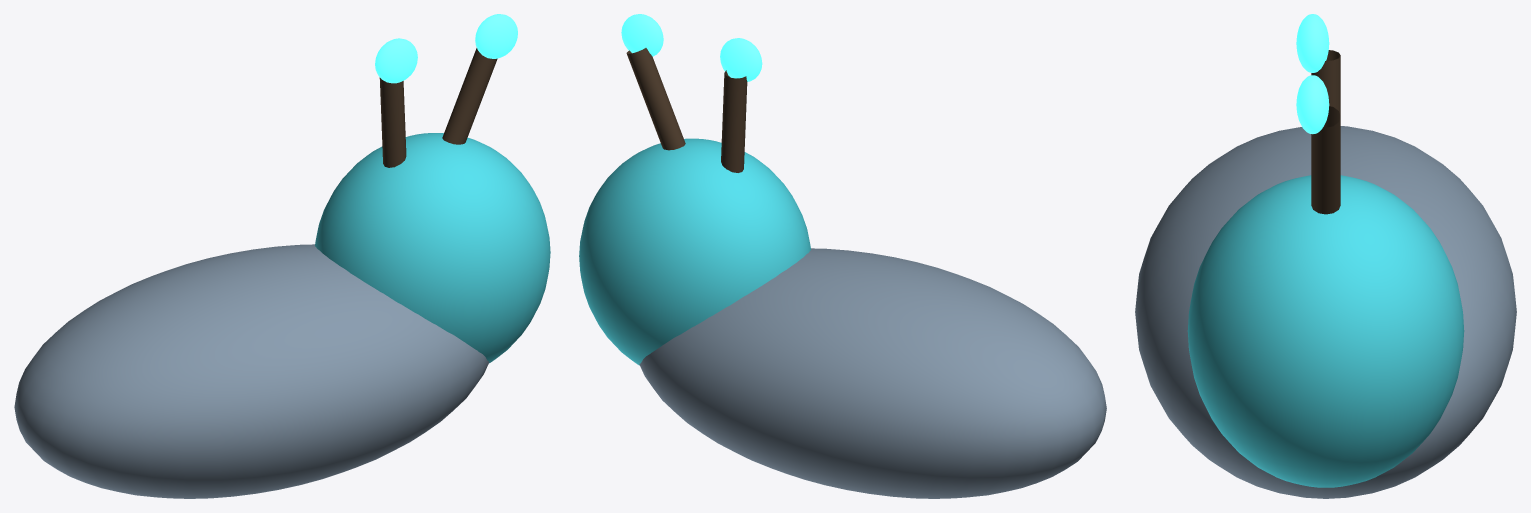
Rendered from ooze_v5.glb.
The picture shows the model from 3 angles, left to right: view 1: azimuth 30°, elevation 25°; view 2: azimuth 150°, elevation 25°; view 3: azimuth 270°, elevation 25°; orthographic projection. The views are drawn at different scales.
Parts seen in each view (by area): view 1: SLUG_SLIME_PRIMARY, SLUG_HEAD_ACCENT, SLUG_STALK_SECONDARY.001, SLUG_STALK_SECONDARY, EYE_EMISSIVE, EYE_EMISSIVE.001; view 2: SLUG_SLIME_PRIMARY, SLUG_HEAD_ACCENT, SLUG_STALK_SECONDARY.001, SLUG_STALK_SECONDARY, EYE_EMISSIVE, EYE_EMISSIVE.001; view 3: SLUG_HEAD_ACCENT, SLUG_SLIME_PRIMARY, SLUG_STALK_SECONDARY.001, EYE_EMISSIVE, EYE_EMISSIVE.001, SLUG_STALK_SECONDARY.
Part boxes in pixels (x1,y1,x2,y2): SLUG_SLIME_PRIMARY: (14, 244, 489, 498); SLUG_HEAD_ACCENT: (315, 133, 550, 363); SLUG_STALK_SECONDARY.001: (442, 48, 497, 144); SLUG_STALK_SECONDARY: (379, 77, 406, 167); EYE_EMISSIVE: (375, 38, 417, 83); EYE_EMISSIVE.001: (475, 14, 517, 58); SLUG_SLIME_PRIMARY: (639, 248, 1106, 498); SLUG_HEAD_ACCENT: (579, 138, 810, 365); SLUG_STALK_SECONDARY.001: (626, 48, 685, 150); SLUG_STALK_SECONDARY: (721, 70, 747, 172); EYE_EMISSIVE: (720, 38, 762, 81); EYE_EMISSIVE.001: (621, 14, 663, 56); SLUG_HEAD_ACCENT: (1187, 175, 1464, 487); SLUG_SLIME_PRIMARY: (1135, 126, 1516, 498); SLUG_STALK_SECONDARY.001: (1311, 106, 1340, 214); EYE_EMISSIVE: (1296, 14, 1329, 72); EYE_EMISSIVE.001: (1296, 75, 1329, 134); SLUG_STALK_SECONDARY: (1311, 50, 1340, 115).
Bounding box in the file's own units: 2.24 × 1.69 × 1.16.
